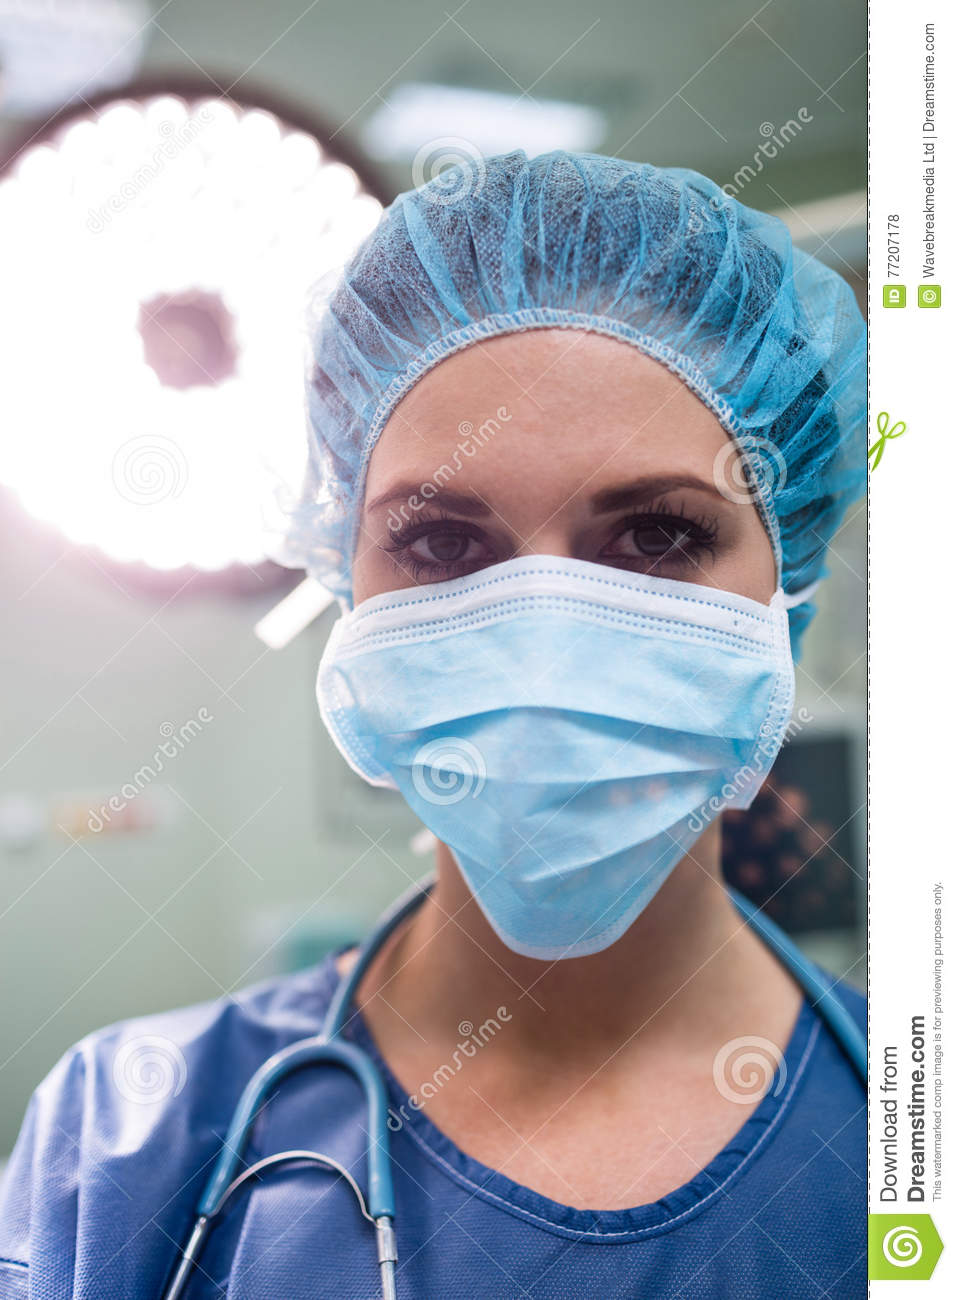mask: (346, 591, 752, 953)
